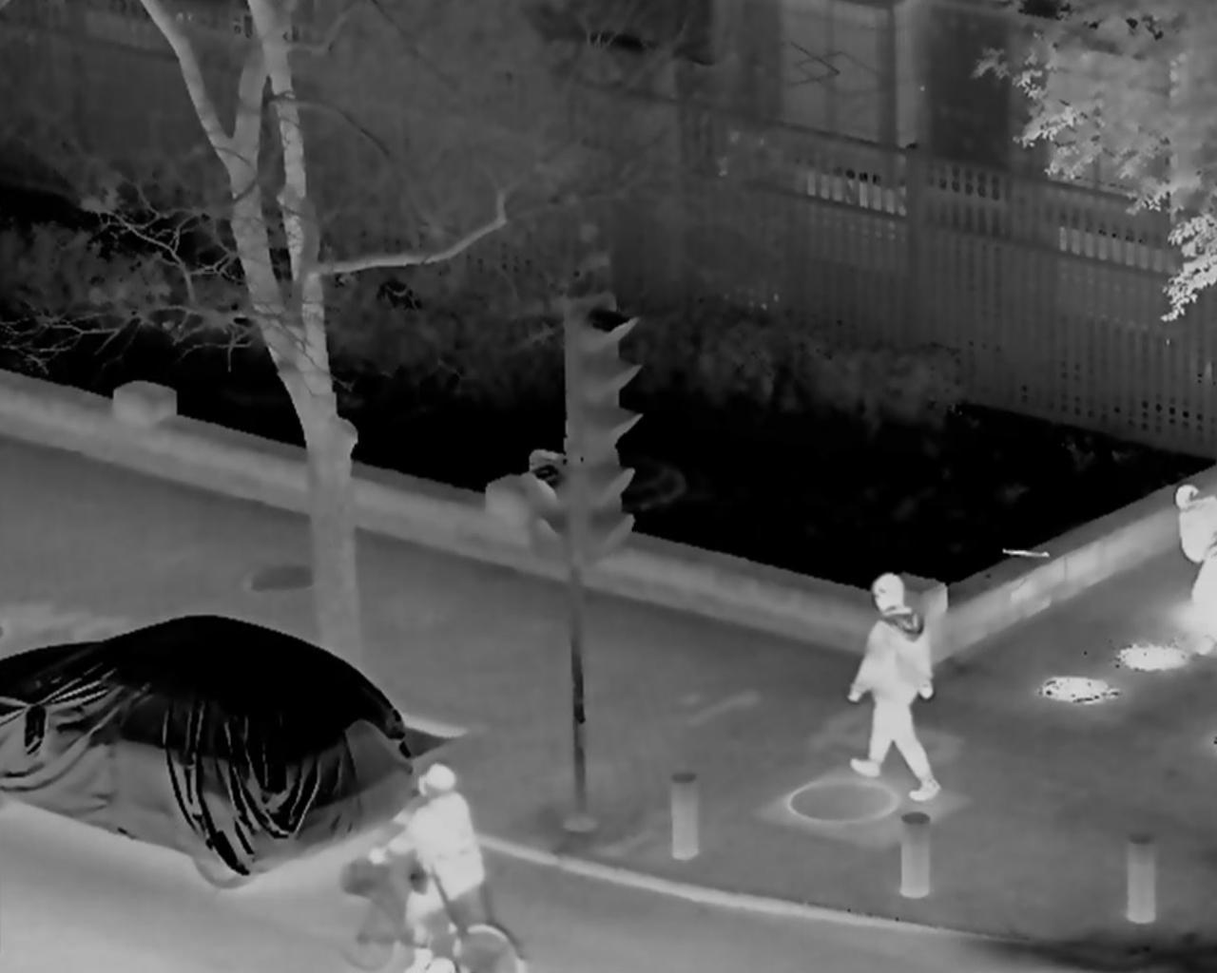person: (362, 762, 497, 973), (850, 569, 946, 811), (1161, 481, 1217, 650)
